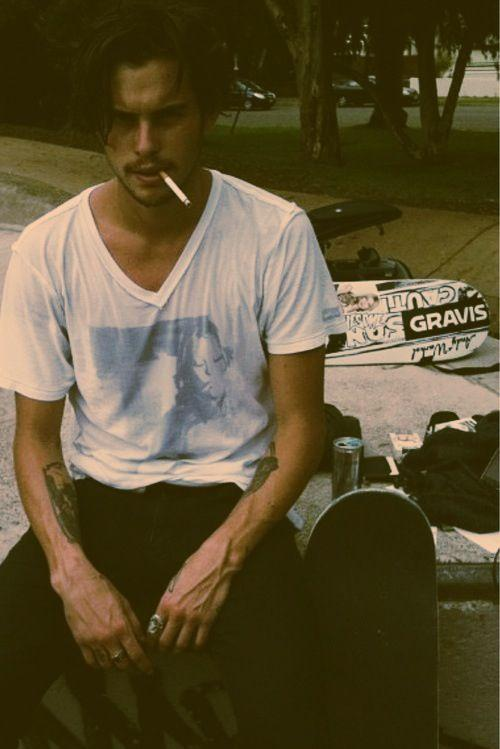cigarette: (158, 168, 191, 207)
